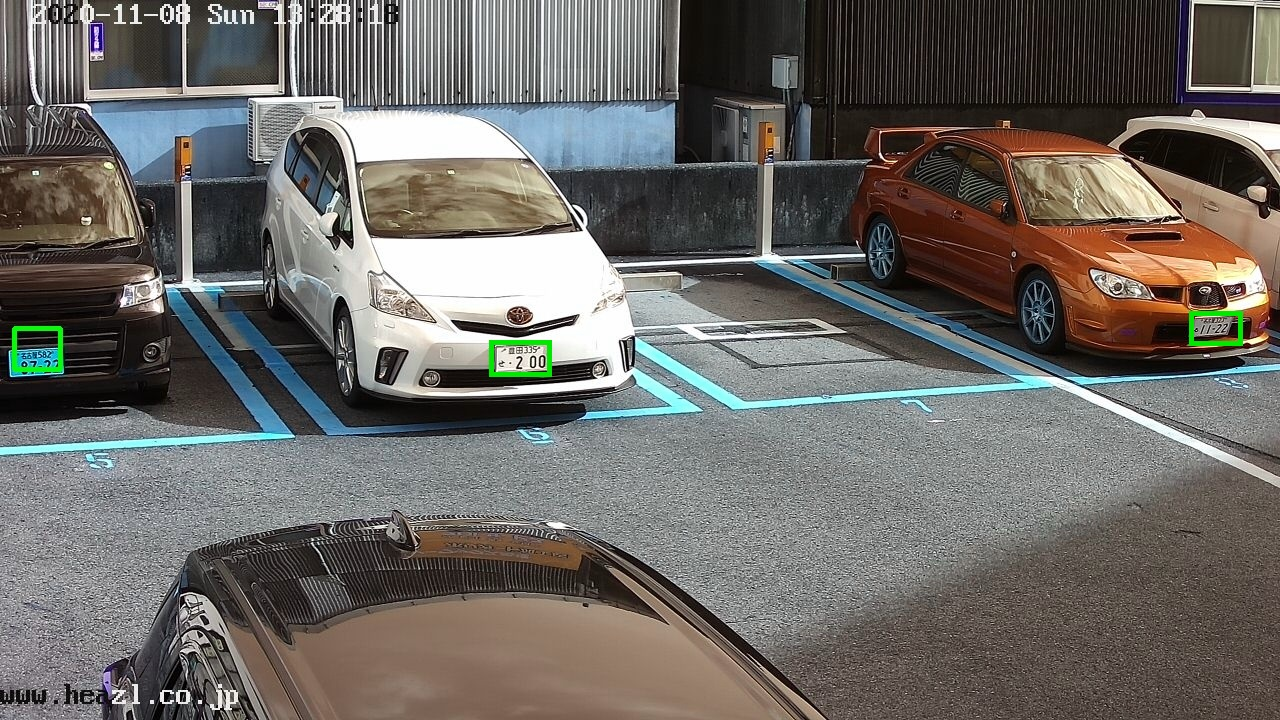number_plate: (494, 343, 551, 370), (7, 348, 62, 375), (1191, 313, 1235, 339)
